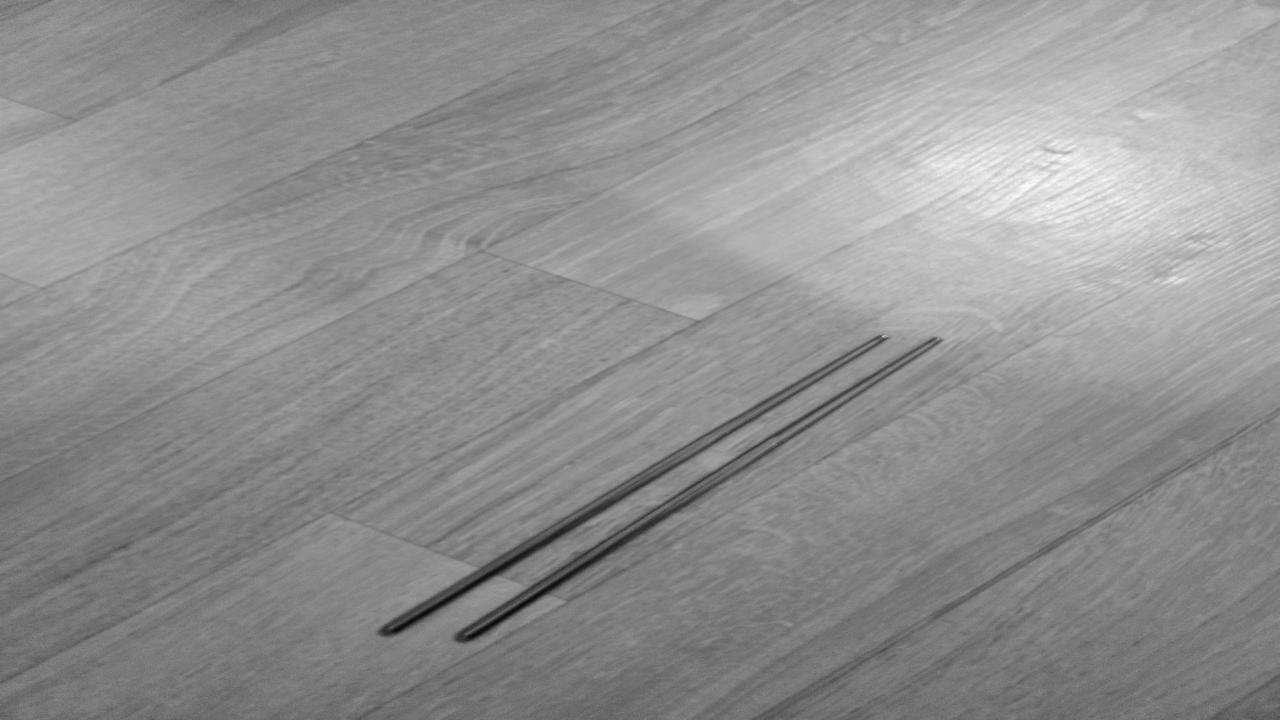chopstick: (359, 327, 948, 643)
